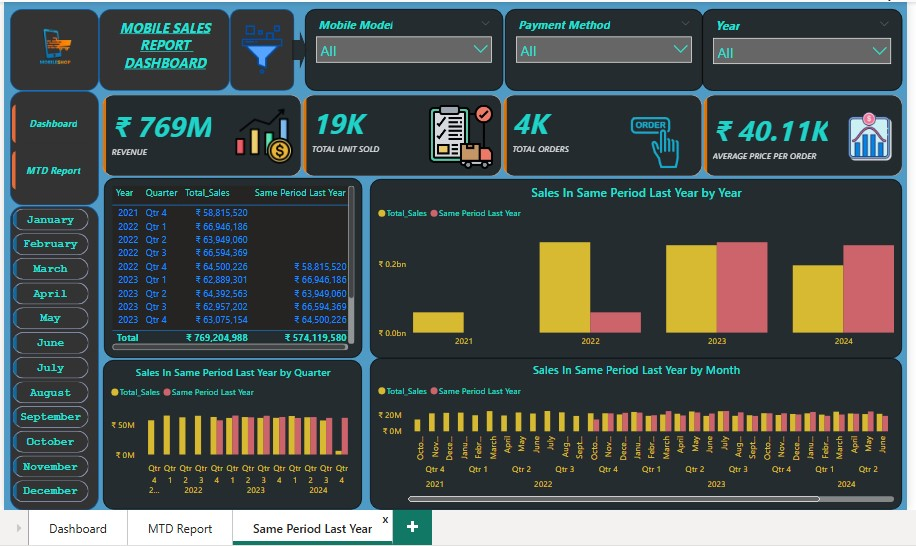

The dashboard page shown, as its layout file describes it:
{"tool":"powerbi","page":{"name":"Same Period Last Year","canvas":[1280,720],"ordinal":2},"visuals":[{"type":"shape","box":[8.7,10.1,126.1,115.9],"z":0},{"type":"image","box":[8.7,0,187,126.1],"z":1000},{"type":"shape","box":[8.7,126.1,126.1,162.3],"z":2000},{"type":"cardVisual","fields":{"Data":["Measure.Sales_Amount","Measure.Total_Quantity","Measure.Transaction","Measure.Average_Price"]},"box":[134.8,126.1,1144.9,126.1],"z":3000},{"type":"slicer","fields":{"Values":["Mobile_sales_Report.Mobile Model"]},"box":[426.1,10.1,281.2,115.9],"z":4000},{"type":"slicer","fields":{"Values":["Mobile_sales_Report.Payment Method"]},"box":[710.1,10.1,281.2,115.9],"z":5000},{"type":"shape","box":[320.3,10.1,91.3,115.9],"z":6000},{"type":"slicer","fields":{"Values":["Custom_Calender.Date.Variation.Date Hierarchy.Year","Custom_Calender.Date.Variation.Date Hierarchy.Quarter","Custom_Calender.Date.Variation.Date Hierarchy.Month","Custom_Calender.Date.Variation.Date Hierarchy.Day"]},"box":[989.9,10.1,284.1,115.9],"z":7000},{"type":"shape","box":[408.7,39.1,21.7,56.5],"z":8000},{"type":"image","box":[313,27.5,105.8,81.2],"z":9000},{"type":"shape","box":[134.8,10.1,185.5,115.9],"z":10000},{"type":"textbox","box":[134.8,18.8,187,98.6],"z":11000},{"type":"advancedSlicerVisual","fields":{"Values":["Custom_Calender.Date.Variation.Date Hierarchy.Month"]},"box":[8.6,288.6,118.6,431.4],"z":12000},{"type":"shape","box":[8.6,288.6,125.7,431.4],"z":13000},{"type":"advancedSlicerVisual","fields":{"Values":["Custom_Calender.Date.Variation.Date Hierarchy.Month"]},"box":[7.2,288.1,118.8,431.9],"z":14000},{"type":"tableEx","fields":{"Values":["Custom_Calender.Date.Variation.Date Hierarchy.Year","Custom_Calender.Date.Variation.Date Hierarchy.Quarter","Measure.Total_Sales","Measure.Same Period Last Year"]},"box":[141.8,249.3,365.7,255.2],"z":15000},{"type":"clusteredColumnChart","title":"Sales In Same Period Last Year by Year","fields":{"Category":["Custom_Calender.Date.Variation.Date Hierarchy.Year","Custom_Calender.Date.Variation.Date Hierarchy.Quarter"],"Y":["Measure.Total_Sales","Measure.Same Period Last Year"]},"box":[519.4,250.7,753.7,253.7],"z":16000},{"type":"clusteredColumnChart","title":"Sales In Same Period Last Year by Quarter","fields":{"Category":["Custom_Calender.Date.Variation.Date Hierarchy.Year","Custom_Calender.Date.Variation.Date Hierarchy.Quarter"],"Y":["Measure.Total_Sales","Measure.Same Period Last Year"]},"box":[140.3,507.5,367.2,211.9],"z":17000},{"type":"clusteredColumnChart","title":"Sales In Same Period Last Year by Month","fields":{"Y":["Measure.Total_Sales","Measure.Same Period Last Year"],"Category":["Custom_Calender.Date.Variation.Date Hierarchy.Year","Custom_Calender.Date.Variation.Date Hierarchy.Quarter","Custom_Calender.Date.Variation.Date Hierarchy.Month","Custom_Calender.Date.Variation.Date Hierarchy.Day"]},"box":[519.4,504.5,753.7,214.9],"z":18000},{"type":"pageNavigator","box":[11.9,144.8,117.9,122.4],"z":19000}]}

Visuals, with their boxes on the page's 1280x720 design canvas (x1, y1, x2, y2). These are canvas units, not pixel positions in the 916x546 screenshot, which may show the page scaled, cropped or inside an application window:
shape: 9, 10, 135, 126
image: 9, 0, 196, 126
shape: 9, 126, 135, 288
cardVisual - Measure.Sales_Amount x Measure.Total_Quantity: 135, 126, 1280, 252
slicer - Mobile_sales_Report.Mobile Model: 426, 10, 707, 126
slicer - Mobile_sales_Report.Payment Method: 710, 10, 991, 126
shape: 320, 10, 412, 126
slicer - Custom_Calender.Date.Variation.Date Hierarchy.Year x Custom_Calender.Date.Variation.Date Hierarchy.Quarter: 990, 10, 1274, 126
shape: 409, 39, 430, 96
image: 313, 28, 419, 109
shape: 135, 10, 320, 126
textbox: 135, 19, 322, 117
advancedSlicerVisual - Custom_Calender.Date.Variation.Date Hierarchy.Month: 9, 289, 127, 720
shape: 9, 289, 134, 720
advancedSlicerVisual - Custom_Calender.Date.Variation.Date Hierarchy.Month: 7, 288, 126, 720
tableEx - Custom_Calender.Date.Variation.Date Hierarchy.Year x Custom_Calender.Date.Variation.Date Hierarchy.Quarter: 142, 249, 508, 504
"Sales In Same Period Last Year by Year" clusteredColumnChart: 519, 251, 1273, 504
"Sales In Same Period Last Year by Quarter" clusteredColumnChart: 140, 508, 508, 719
"Sales In Same Period Last Year by Month" clusteredColumnChart: 519, 504, 1273, 719
pageNavigator: 12, 145, 130, 267
